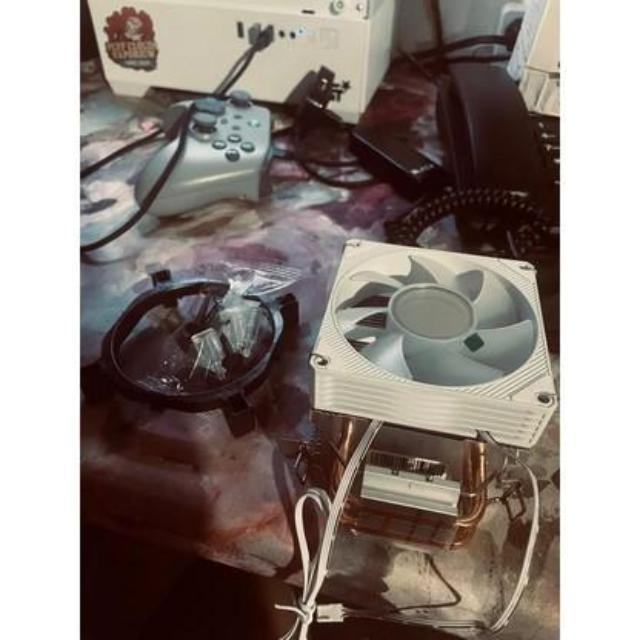CPU_Fan: (320, 238, 555, 547)
